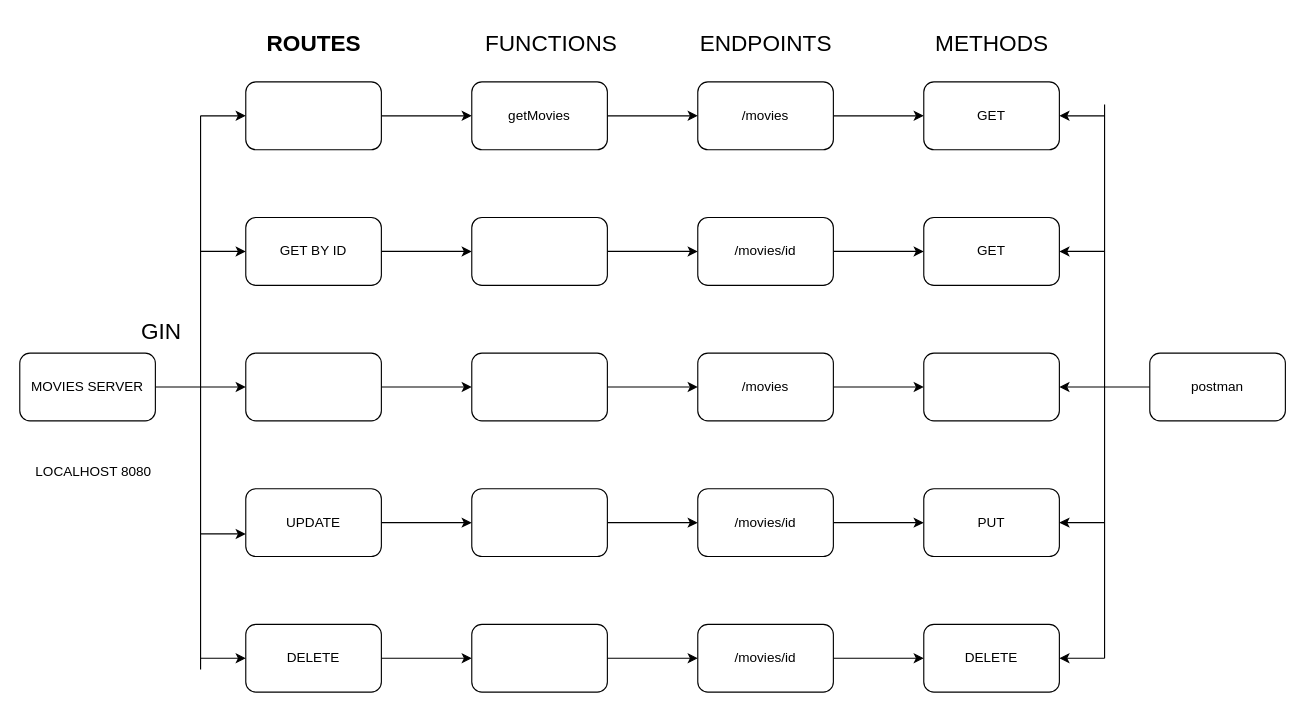
Image size: 1305x712. Some labels were removed from this diagram. Here are the shapes that lost their labels. From the top down, the centre of each, then its label:
At [313,115]: "GET ALL".
At [539,250]: "getMovie".
At [313,386]: "CREATE".
At [539,386]: "createMovie".
At [991,386]: "POST".
At [539,522]: "updateMovie".
At [539,657]: "deleteMovie".
